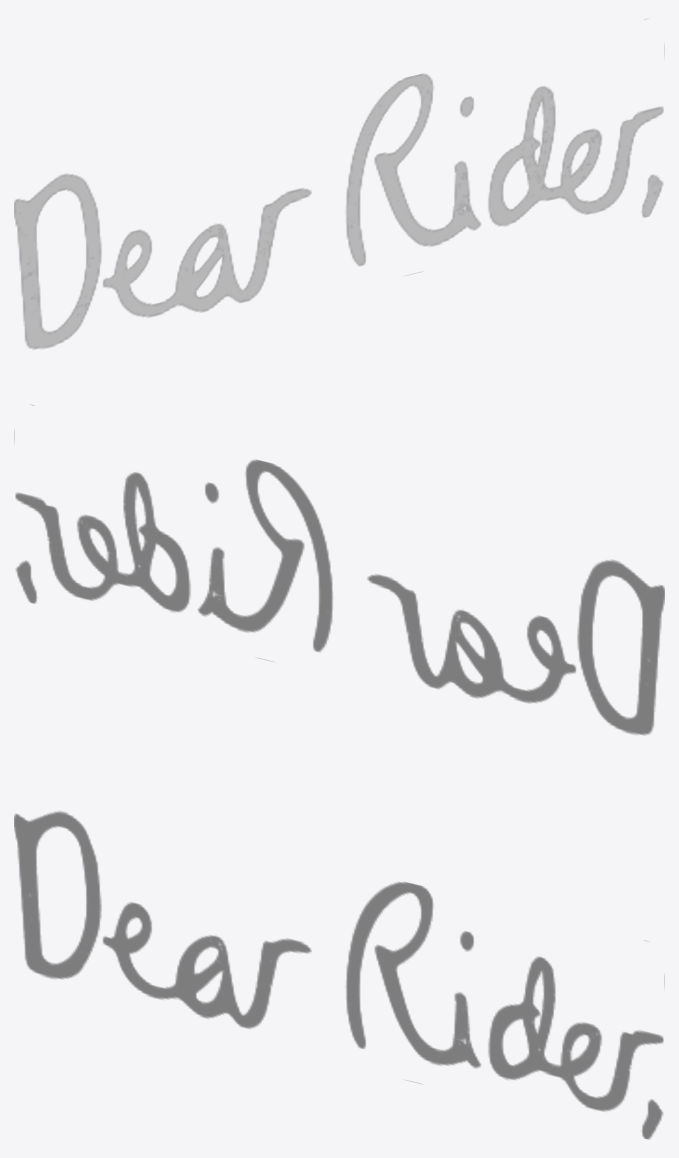
The model's file is DearRider_icon.gltf.
3 views of the same model, one above another, from view 1: azimuth 30°, elevation 25°; view 2: azimuth 150°, elevation 25°; view 3: azimuth 330°, elevation 25° (orthographic).
Visible parts, largest first — view 1: DearRider; view 2: DearRider; view 3: DearRider.
Part boxes in pixels (<box>): DearRider: <box>14,19,664,348</box>; DearRider: <box>14,405,664,734</box>; DearRider: <box>14,811,664,1139</box>.
Bounding box in the file's own units: 350 × 102 × 0.
Materials: 1 (1 with a texture image).
